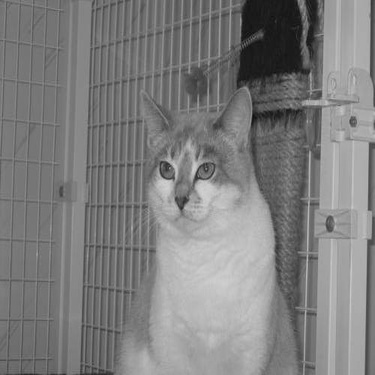cat: (115, 88, 303, 369)
